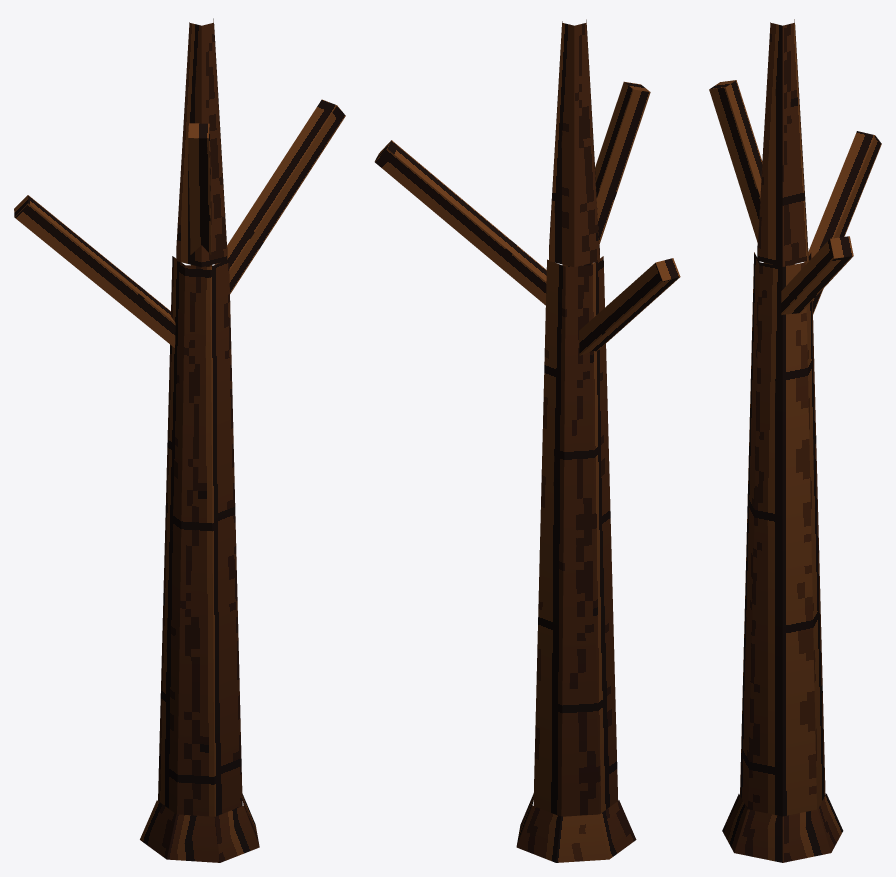
Rendered from oak_1_trunk.glb.
The picture shows the model from 3 angles, left to right: view 1: azimuth 30°, elevation 25°; view 2: azimuth 150°, elevation 25°; view 3: azimuth 270°, elevation 25°; orthographic projection.
Parts seen in each view (by area): view 1: oak_1_trunk; view 2: oak_1_trunk; view 3: oak_1_trunk.
Boxes of the visible parts, x1,y1,x2,y2 form: oak_1_trunk: [14, 18, 345, 862]; oak_1_trunk: [374, 19, 680, 862]; oak_1_trunk: [709, 19, 881, 862].
Size of the model in its own units: 2.11 by 5.22 by 1.
Materials: 1 (1 with a texture image).
